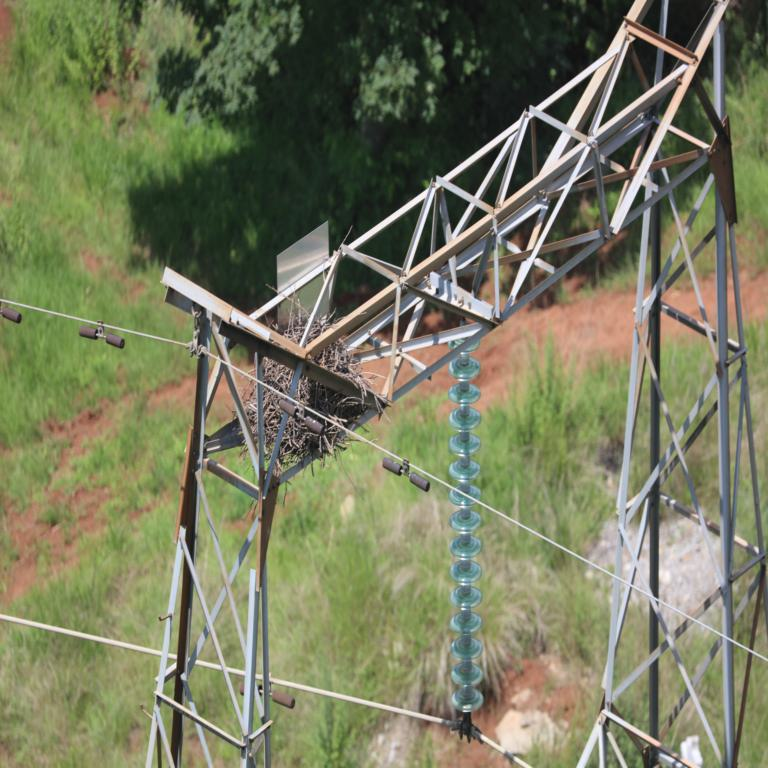nest: (252, 325, 366, 456)
